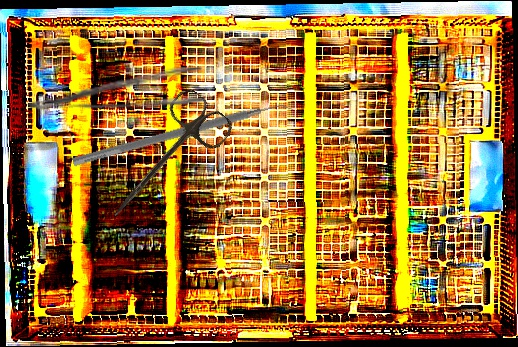Dressing Forceps: (26, 65, 206, 113)
Iris Scissors: (92, 84, 237, 239)
Spatula Surgical: (71, 95, 295, 176)
